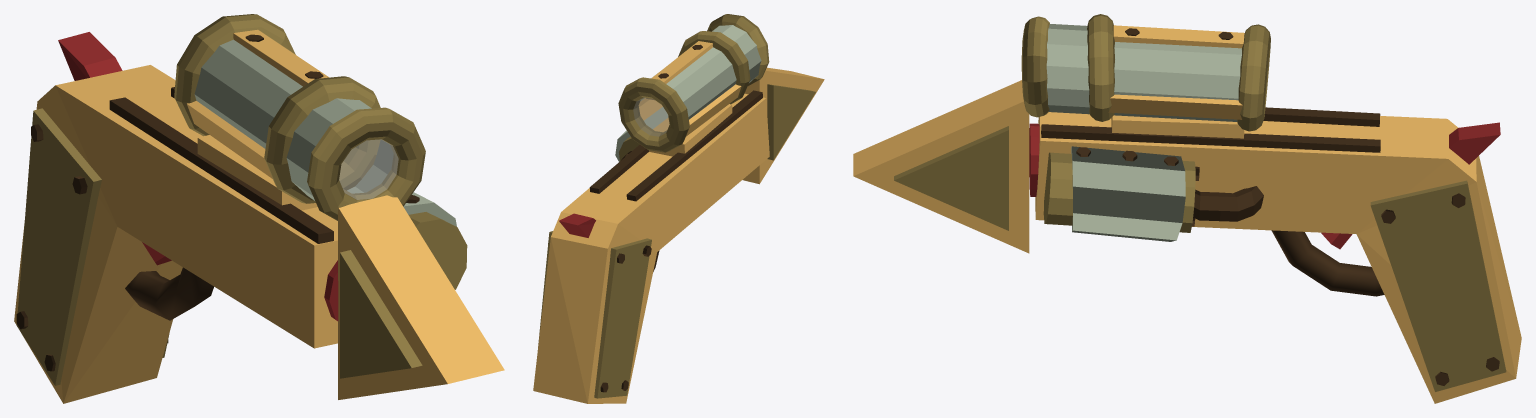
File: grapplingHook.fbx
3 renders of one model, left to right at view 1: azimuth 30°, elevation 25°; view 2: azimuth 150°, elevation 25°; view 3: azimuth 270°, elevation 25°, orthographic. The views are drawn at different scales.
Visible parts, largest first — view 1: Merge_into_selected_namespace_and_rename_incoming_objec_24b6, Circle, Merge_into_selected_namespace_and_rename_incoming_objec_0717, Merge_into_selected_namespace_and_rename_incoming_objec_ee94, Circle.001, Merge_into_selected_namespace_and_rename_incoming_objec_c812, Merge_into_selected_namespace_and_rename_incoming_objec_51fd; view 2: Merge_into_selected_namespace_and_rename_incoming_objec_24b6, Merge_into_selected_namespace_and_rename_incoming_objec_0717, Merge_into_selected_namespace_and_rename_incoming_objec_ee94, Circle.001, Circle, Merge_into_selected_namespace_and_rename_incoming_objec_f5a6; view 3: Merge_into_selected_namespace_and_rename_incoming_objec_24b6, Merge_into_selected_namespace_and_rename_incoming_objec_0717, Merge_into_selected_namespace_and_rename_incoming_objec_ee94, Circle, Circle.001, Merge_into_selected_namespace_and_rename_incoming_objec_c812, Merge_into_selected_namespace_and_rename_incoming_objec_ce0.
Boxes of the visible parts, x1,y1,x2,y2 form: Merge_into_selected_namespace_and_rename_incoming_objec_24b6: (14,14,425,403); Circle: (338,195,504,399); Merge_into_selected_namespace_and_rename_incoming_objec_0717: (17,39,467,371); Merge_into_selected_namespace_and_rename_incoming_objec_ee94: (16,108,169,385); Circle.001: (340,250,422,378); Merge_into_selected_namespace_and_rename_incoming_objec_c812: (125,267,213,320); Merge_into_selected_namespace_and_rename_incoming_objec_51fd: (339,139,398,199); Merge_into_selected_namespace_and_rename_incoming_objec_24b6: (533,14,769,403); Merge_into_selected_namespace_and_rename_incoming_objec_0717: (589,25,761,392); Merge_into_selected_namespace_and_rename_incoming_objec_ee94: (538,231,651,398); Circle.001: (767,84,815,160); Circle: (743,67,824,184); Merge_into_selected_namespace_and_rename_incoming_objec_f5a6: (633,98,669,136); Merge_into_selected_namespace_and_rename_incoming_objec_24b6: (1021,14,1521,403); Merge_into_selected_namespace_and_rename_incoming_objec_0717: (1041,24,1380,241); Merge_into_selected_namespace_and_rename_incoming_objec_ee94: (1370,180,1506,391); Circle: (853,80,1029,253); Circle.001: (894,126,1008,230); Merge_into_selected_namespace_and_rename_incoming_objec_c812: (1271,230,1384,296); Merge_into_selected_namespace_and_rename_incoming_objec_ce0: (1381,193,1499,385).
Bounding box in the file's own units: 23.15 × 54.49 × 89.11.
